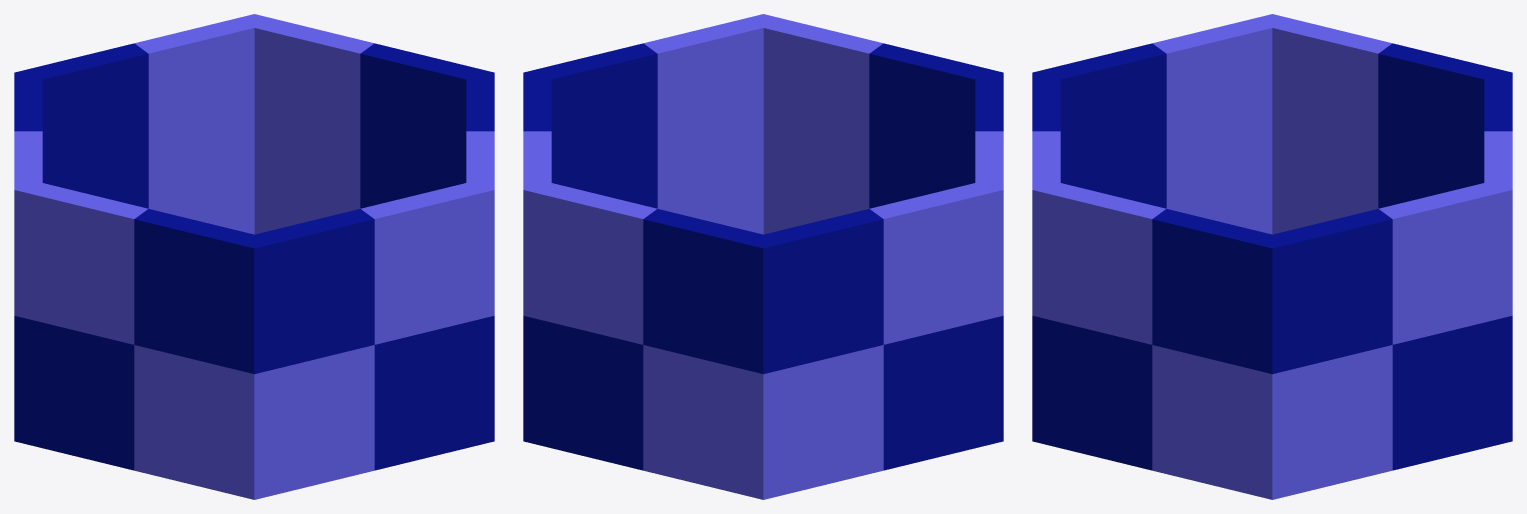
File: bin.Hexagon6.fbx
3 renders of one model, left to right at view 1: azimuth 30°, elevation 25°; view 2: azimuth 150°, elevation 25°; view 3: azimuth 270°, elevation 25°, orthographic.
Parts seen in each view (by area): view 1: Cylinder; view 2: Cylinder; view 3: Cylinder.
Part boxes in pixels (x1,y1,x2,y2): Cylinder: (14,14,494,499); Cylinder: (523,14,1003,499); Cylinder: (1032,14,1512,499).
Size of the model in its own units: 400 by 200 by 346.
